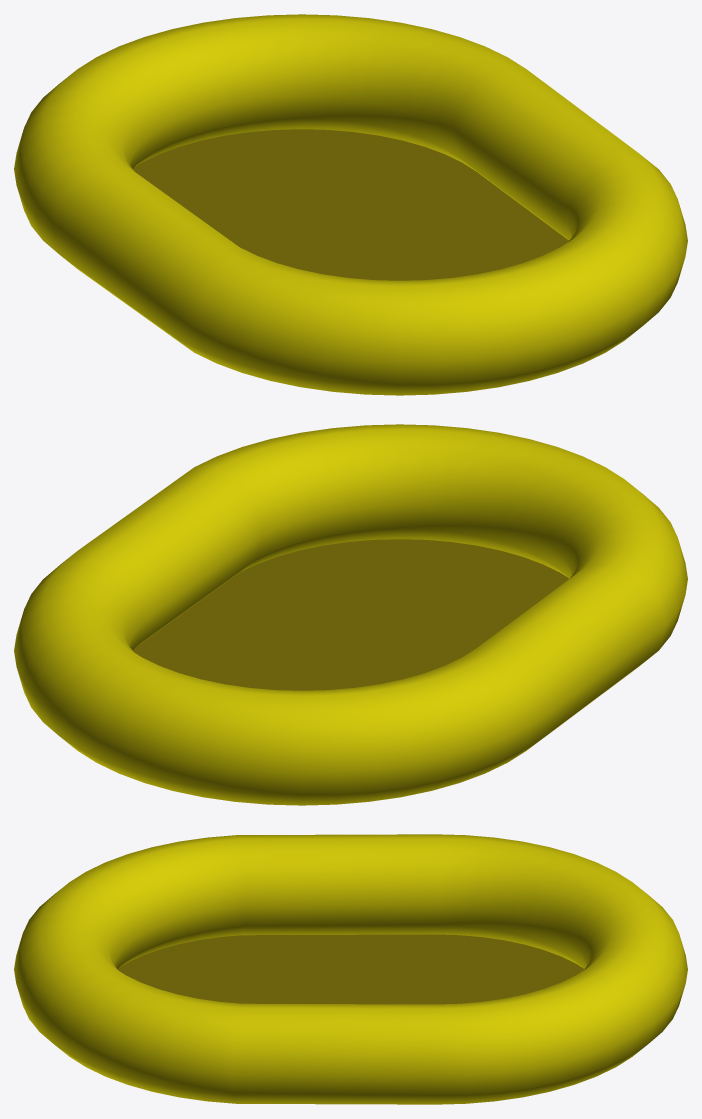
Rendered from Submarine.fbx.
The picture shows the model from 3 angles, top to bottom: view 1: azimuth 30°, elevation 25°; view 2: azimuth 150°, elevation 25°; view 3: azimuth 270°, elevation 25°; orthographic projection. The views are drawn at different scales.
Parts seen in each view (by area): view 1: Torus, Circle; view 2: Torus, Circle; view 3: Torus, Circle.
Part boxes in pixels (<box>): Torus: <box>14,14,687,395</box>; Circle: <box>133,129,568,280</box>; Torus: <box>14,424,687,805</box>; Circle: <box>133,539,568,690</box>; Torus: <box>14,834,687,1104</box>; Circle: <box>118,934,583,1004</box>.
Bounding box in the file's own units: 73.14 × 14.63 × 97.99.
